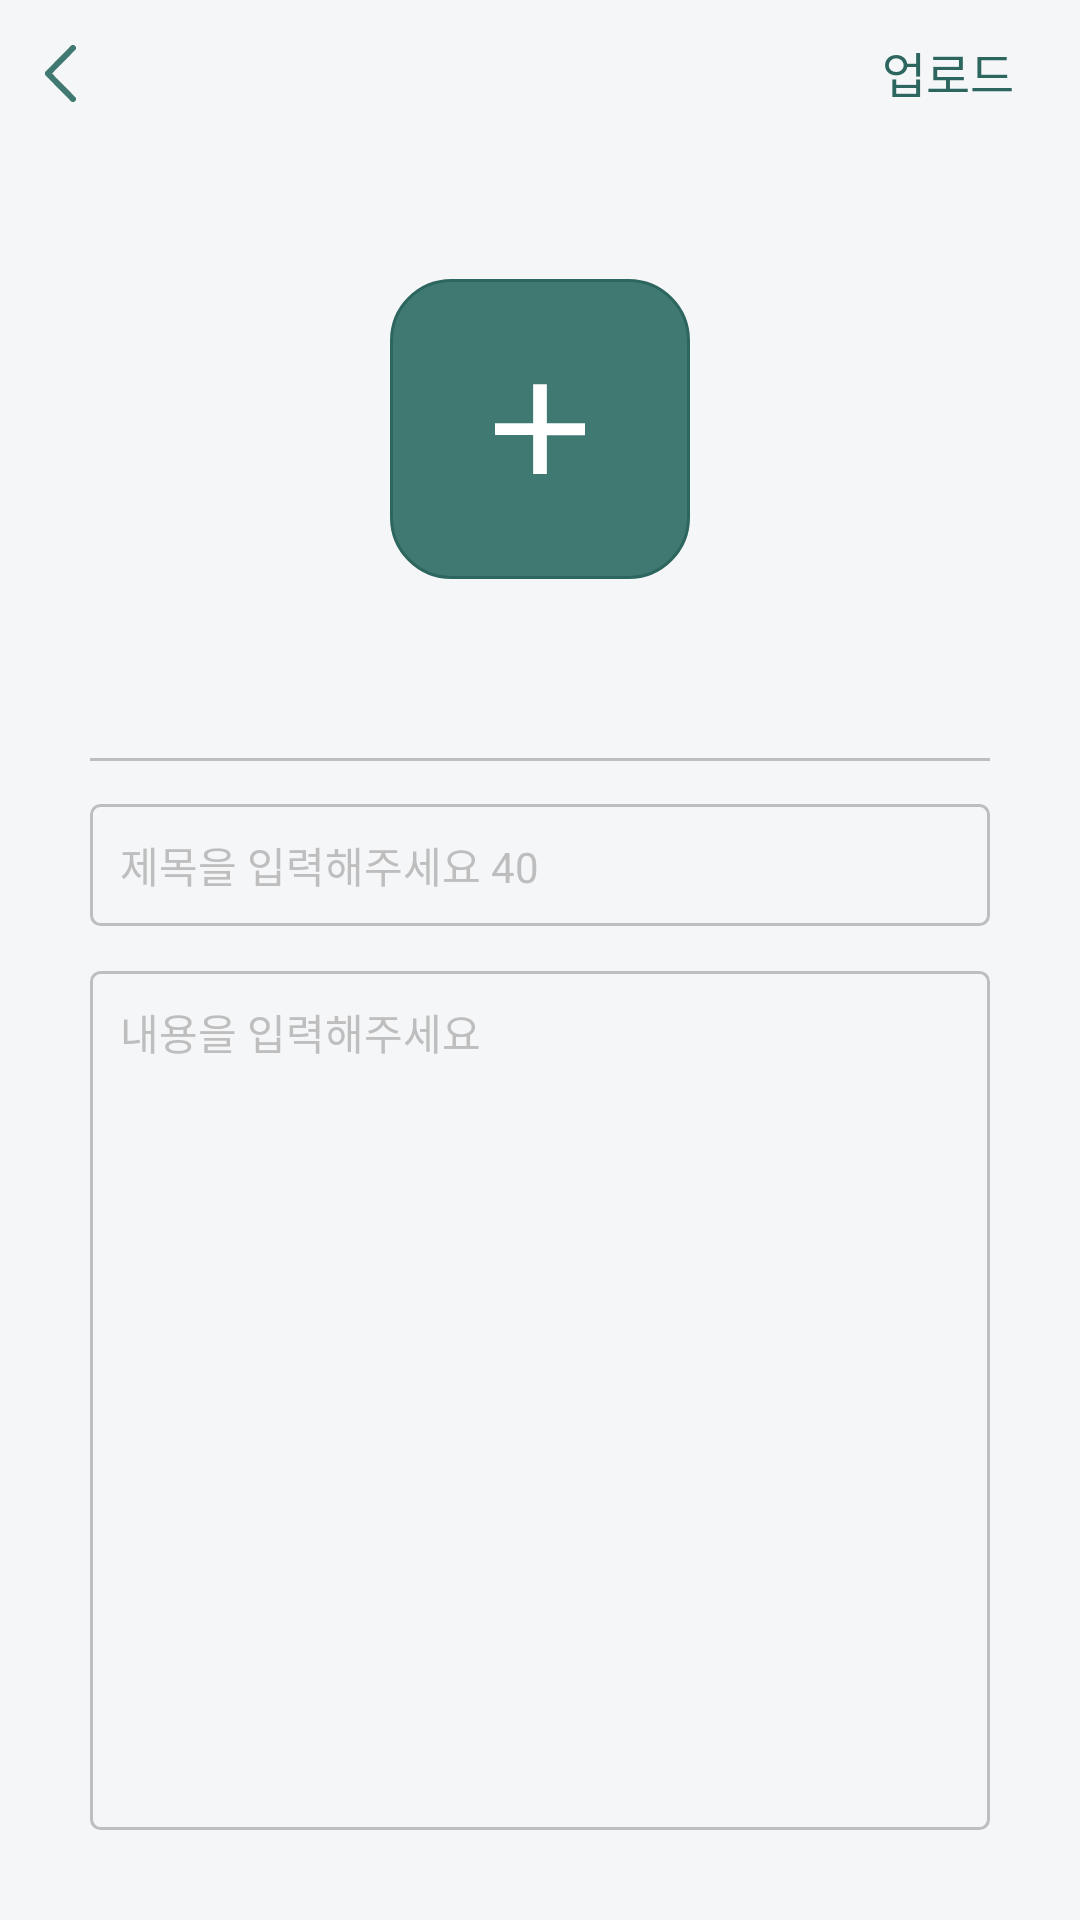

Icons on this 1080px x 1920px Android screen, each with the point to tap as (x=x, y=y):
add: (x=540, y=429)
back: (x=60, y=73)
